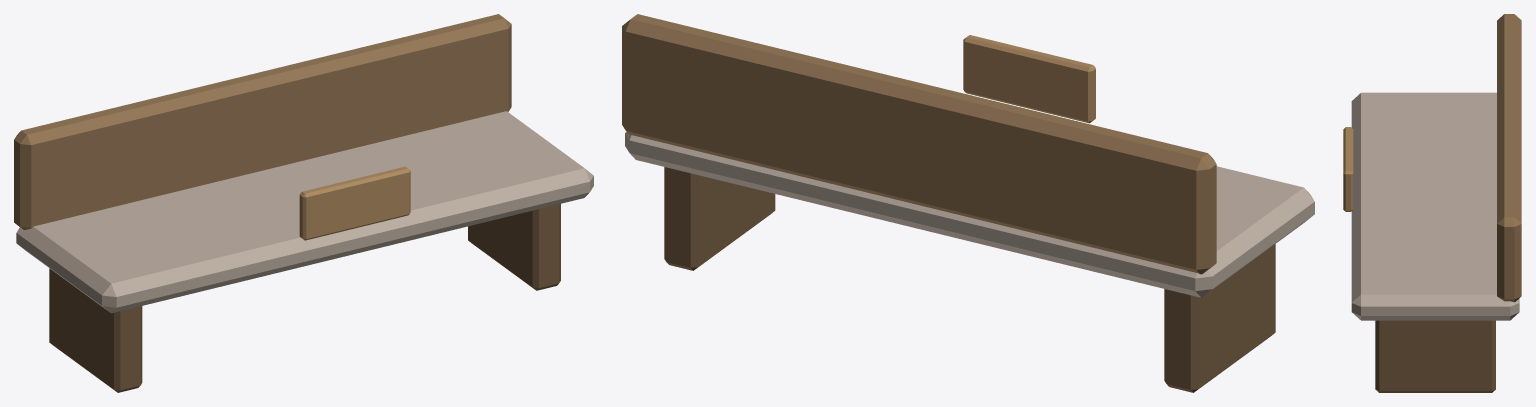
File: town_chapel_pew.glb
The picture shows the model from 3 angles, left to right: view 1: azimuth 30°, elevation 25°; view 2: azimuth 150°, elevation 25°; view 3: azimuth 270°, elevation 25°; orthographic projection. The views are drawn at different scales.
Size of the model in its own units: 2.42 by 0.99 by 0.8711.
